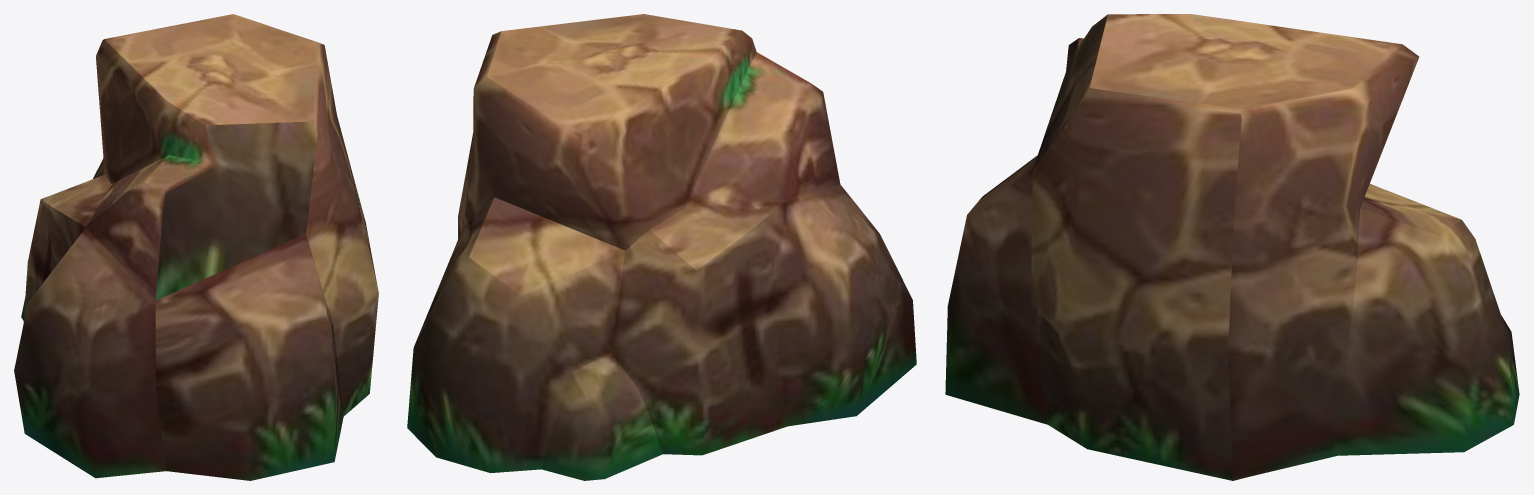
File: rock_1.fbx
3 views of the same model, side by side, from view 1: azimuth 30°, elevation 25°; view 2: azimuth 150°, elevation 25°; view 3: azimuth 270°, elevation 25° (orthographic). The views are drawn at different scales.
Parts seen in each view (by area): view 1: rock_1; view 2: rock_1; view 3: rock_1.
Part boxes in pixels (bbox=[...]): rock_1: bbox=[14, 14, 378, 480]; rock_1: bbox=[407, 14, 916, 480]; rock_1: bbox=[945, 14, 1519, 480].
Size of the model in its own units: 0.5933 by 0.4695 by 0.7002.
1 material, 1 textured.
